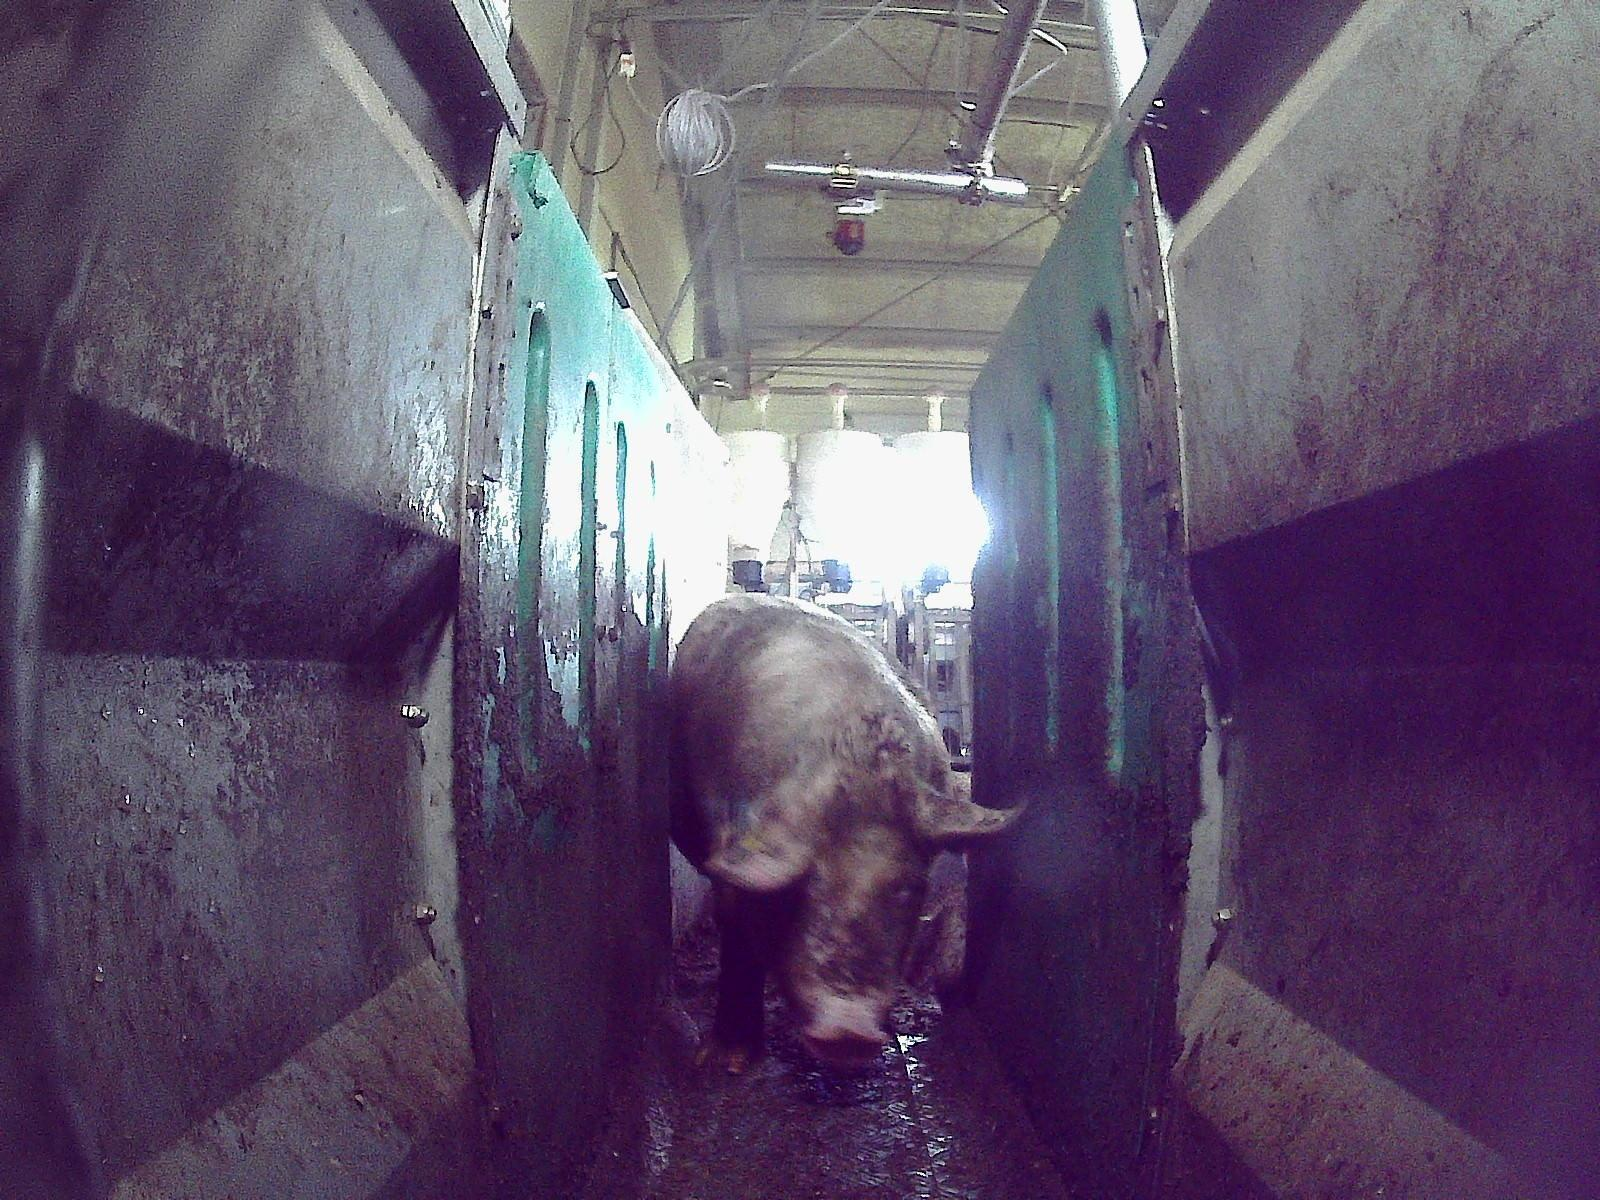Face: (737, 759, 936, 1065)
